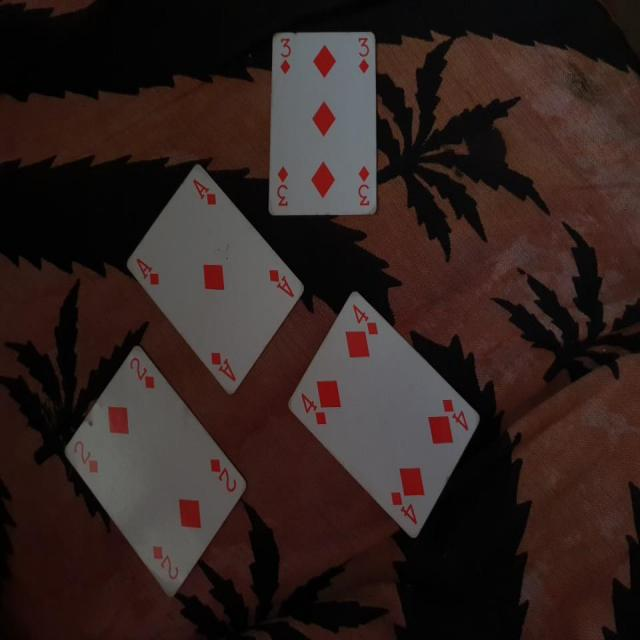2 Diamonds: (61, 341, 249, 616)
3 Diamonds: (269, 28, 380, 217)
4 Diamonds: (287, 290, 480, 546)
A Diamonds: (120, 156, 304, 401)
